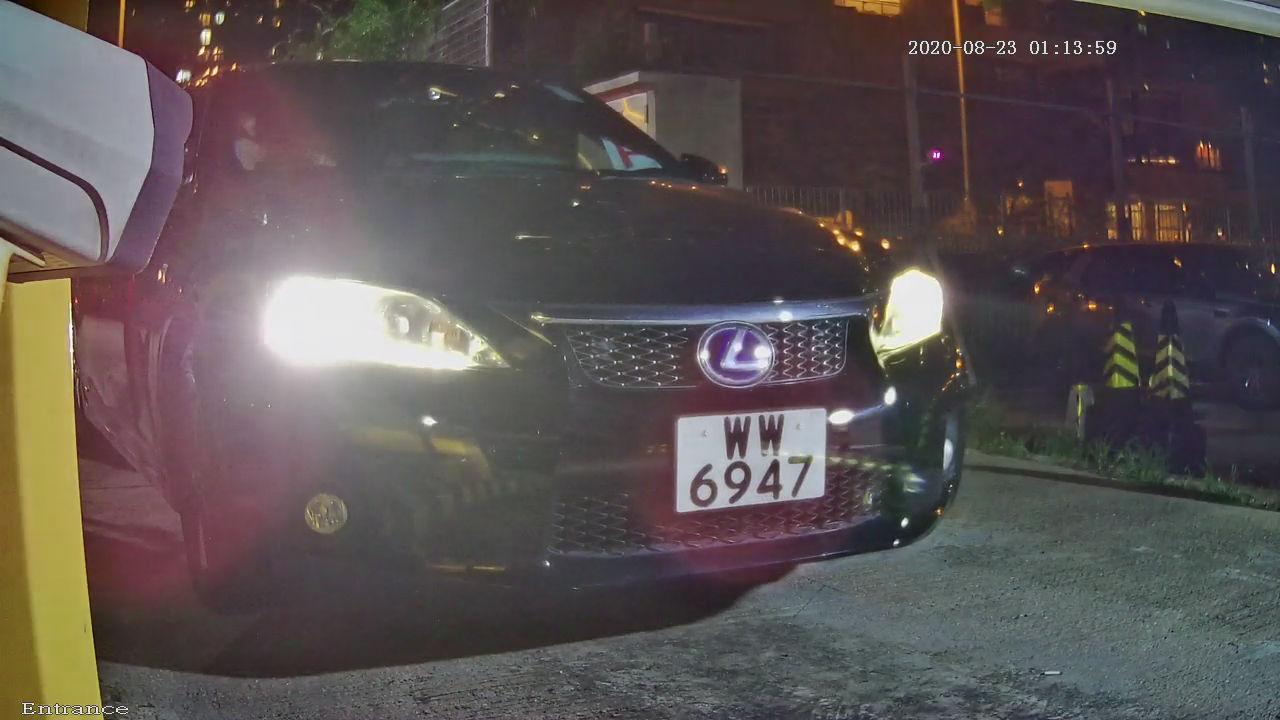Car: (1, 17, 1046, 647)
License Plate: (628, 369, 868, 568)
